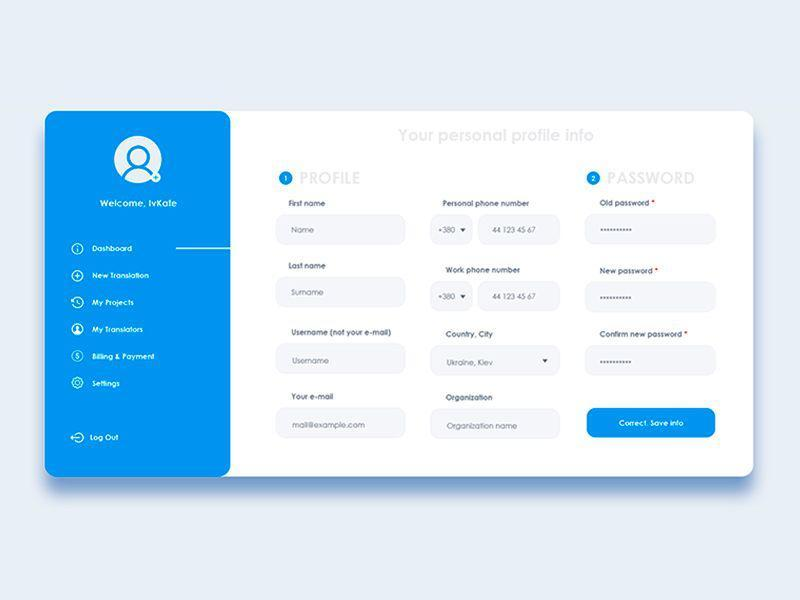button: (586, 407, 717, 441)
dropdown: (429, 345, 563, 377), (429, 282, 475, 312), (430, 215, 473, 246)
icon: (67, 432, 87, 447), (70, 377, 87, 393), (70, 322, 87, 338), (71, 296, 86, 312), (71, 349, 86, 364), (71, 270, 85, 285), (72, 243, 86, 257)
input: (277, 213, 407, 249), (587, 342, 717, 378), (276, 343, 409, 377), (275, 277, 407, 311), (586, 281, 717, 315), (277, 406, 408, 439), (586, 214, 718, 246), (431, 409, 563, 439), (478, 214, 561, 246), (478, 281, 561, 313)
label: (289, 326, 394, 339), (91, 349, 159, 365), (597, 329, 695, 340), (442, 200, 531, 211), (444, 264, 525, 276), (89, 323, 148, 337), (93, 270, 154, 283), (88, 297, 137, 312), (598, 266, 664, 277), (443, 327, 497, 340), (287, 197, 331, 212), (443, 392, 496, 404), (593, 199, 658, 208), (289, 390, 337, 402), (288, 261, 329, 273), (91, 431, 123, 446), (91, 244, 135, 254), (91, 378, 122, 390)
